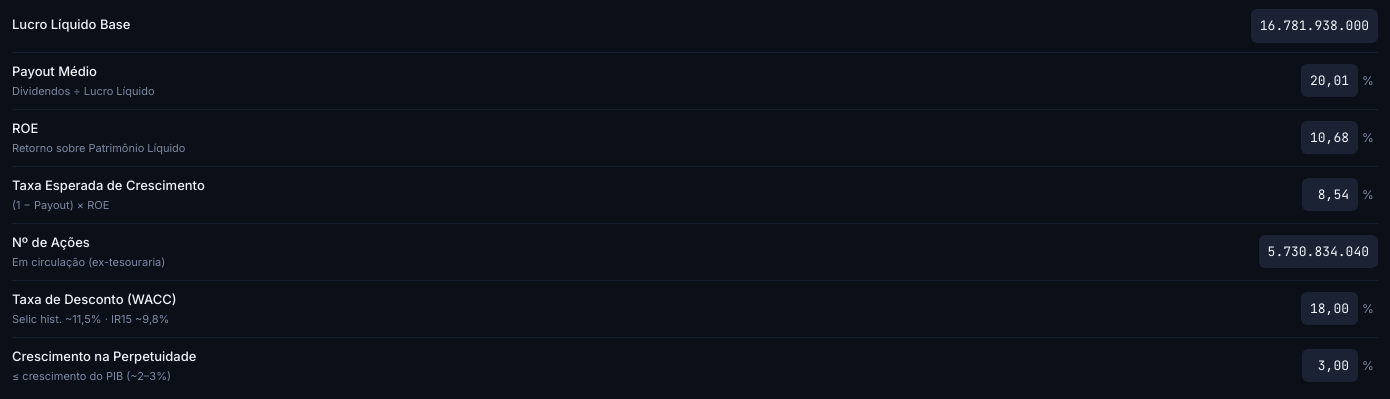
Test case: DCFInputPanel — digitação não é engolida › cada tecla é preservada ao longo da digitação, não só o resultado final
The width and height of the screenshot is (1390, 399).
Step 1. Clear the field showing "10,68" in the row of "Retorno sobre Patrimônio Líquido" → [1330, 138], box [1301,121,1358,154]
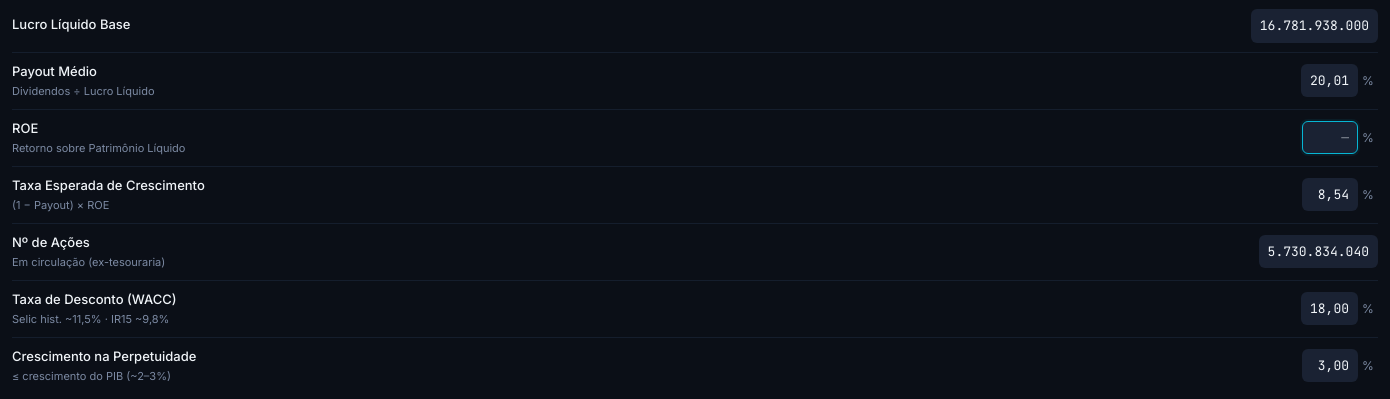
// Se o input remontar, o "1" vira "1,00" e o "2" seguinte cai no lugar errado.
Step 2. Type "1" into the field showing "10,68" → [1330, 138], box [1302,121,1358,154]
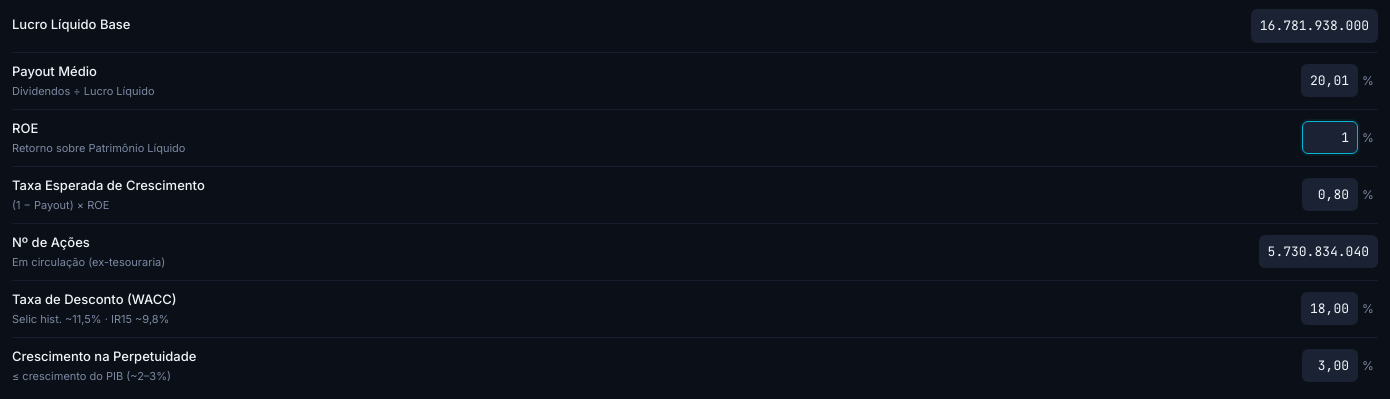
Step 3. Type "2" into the field showing "10,68" in the row of "Retorno sobre Patrimônio Líquido" → [1330, 138], box [1302,121,1358,154]
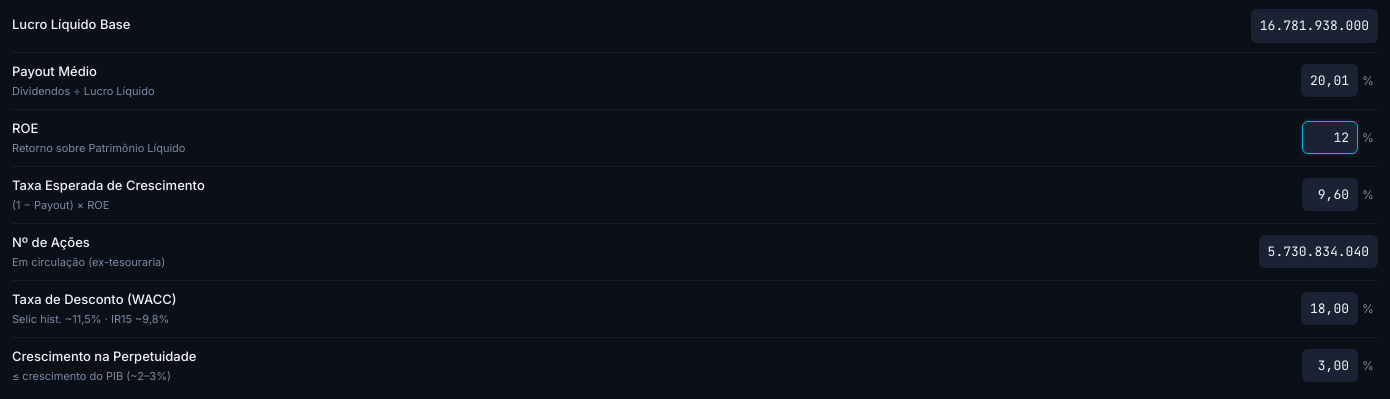
Now the field showing "10,68" in the row of "Retorno sobre Patrimônio Líquido" holds "12", box [1302,121,1358,154]
